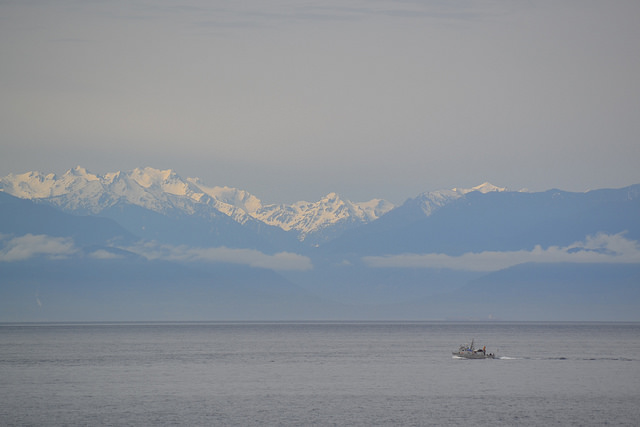fishing_boat: (447, 330, 506, 365)
